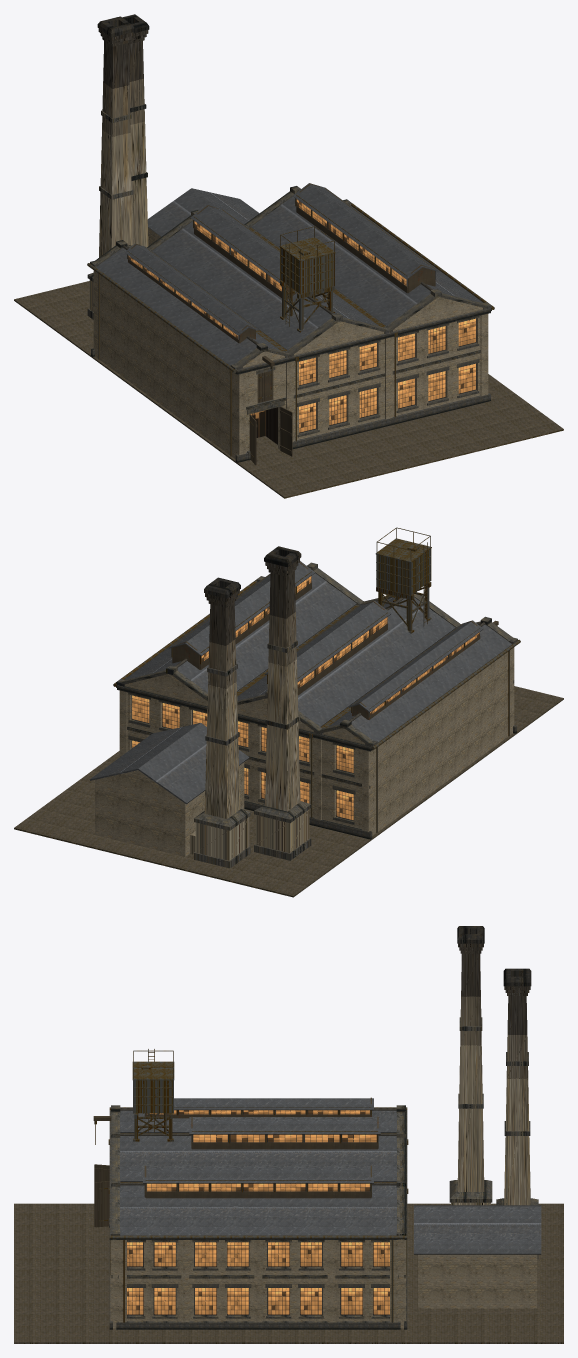
Rendered from no-2-flat-out-factory.glb.
3 views of the same model, one above another, from view 1: azimuth 30°, elevation 25°; view 2: azimuth 150°, elevation 25°; view 3: azimuth 270°, elevation 25° (orthographic).
Visible parts, largest first — view 1: no-2-mill-roof, no-2-mill-walls, no-2-yard-setts, no-2-mill-stonework, no-2-chimney-a, no-2-mill-ironwork, no-2-chimney-b, no-2-mill-timber, no-2-water-tank, no-2-boiler-house-building, no-2-tank-trestle; view 2: no-2-mill-roof, no-2-mill-walls, no-2-yard-setts, no-2-boiler-house-building, no-2-chimney-a, no-2-chimney-b, no-2-mill-stonework, no-2-mill-ironwork, no-2-water-tank, no-2-mill-timber, no-2-tank-trestle, no-2-window-back-ground-01 (+1 smaller); view 3: no-2-mill-roof, no-2-yard-setts, no-2-boiler-house-building, no-2-mill-walls, no-2-mill-stonework, no-2-chimney-a, no-2-chimney-b, no-2-mill-timber, no-2-mill-ironwork, no-2-water-tank, no-2-tank-trestle, no-2-loading-door-right (+12 smaller).
Boxes of the visible parts, x1,y1,x2,y2 form: no-2-mill-roof: (96,183,483,365); no-2-mill-walls: (93,270,488,458); no-2-yard-setts: (14,281,563,498); no-2-mill-stonework: (90,186,491,462); no-2-chimney-a: (87,16,134,319); no-2-mill-ironwork: (87,188,494,456); no-2-chimney-b: (122,14,149,247); no-2-mill-timber: (128,183,435,402); no-2-water-tank: (279,237,335,294); no-2-boiler-house-building: (147,188,259,245); no-2-tank-trestle: (280,226,335,332); no-2-mill-roof: (124,561,511,742); no-2-mill-walls: (119,647,514,835); no-2-yard-setts: (14,686,563,897); no-2-boiler-house-building: (89,723,249,856); no-2-chimney-a: (254,546,311,860); no-2-chimney-b: (194,577,250,868); no-2-mill-stonework: (116,562,517,839); no-2-mill-ironwork: (113,571,520,832); no-2-water-tank: (375,538,431,595); no-2-mill-timber: (172,562,498,719); no-2-tank-trestle: (376,527,431,633); no-2-window-back-ground-01: (336,790,353,820); no-2-mill-roof: (120,1098,396,1235); no-2-yard-setts: (14,1203,563,1343); no-2-boiler-house-building: (414,1205,541,1308); no-2-mill-walls: (110,1239,406,1328); no-2-mill-stonework: (109,1105,407,1329); no-2-chimney-a: (449,926,492,1205); no-2-chimney-b: (496,968,538,1259); no-2-mill-timber: (93,1097,378,1198); no-2-mill-ironwork: (94,1107,408,1322); no-2-water-tank: (132,1061,174,1113); no-2-tank-trestle: (133,1049,173,1141); no-2-loading-door-right: (94,1181,109,1227).
Bounding box in the file's own units: 25.05 × 25.1 × 41.4.
Materials: 15 (15 with a texture image).
